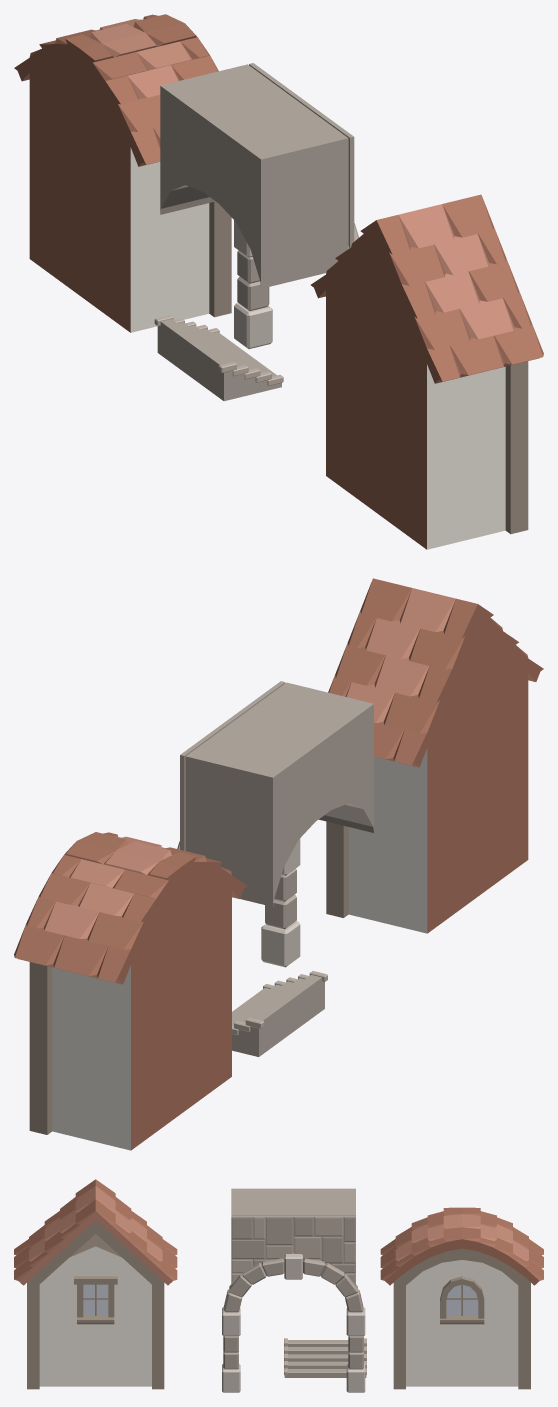
File: stairs.fbx
3 renders of one model, top to bottom at view 1: azimuth 30°, elevation 25°; view 2: azimuth 150°, elevation 25°; view 3: azimuth 270°, elevation 25°, orthographic. The views are drawn at different scales.
Visible parts, largest first — view 1: object5, object4, object1.002, object1.003, object3.001, object6, object2, object5.001; view 2: object5, object4, object1.002, object1.003, object2, object6, object3.001, object4.002; view 3: object5, object4, object6, object3.001, object2, object1.002, object5.001, object4.002, object1.003, object2.001, object3, object1.001.
Part boxes in pixels (x1,y1,x2,y2): object5: [311, 194, 543, 549]; object4: [14, 14, 218, 332]; object1.002: [160, 64, 348, 288]; object1.003: [157, 319, 281, 401]; object3.001: [505, 361, 528, 534]; object6: [234, 220, 358, 348]; object2: [209, 201, 231, 317]; object5.001: [299, 100, 354, 229]; object5: [328, 578, 543, 933]; object4: [14, 832, 247, 1150]; object1.002: [185, 682, 373, 906]; object1.003: [232, 975, 324, 1056]; object2: [29, 962, 52, 1134]; object6: [177, 838, 300, 967]; object3.001: [326, 821, 348, 917]; object4.002: [180, 718, 234, 847]; object5: [14, 1179, 177, 1386]; object4: [380, 1207, 543, 1386]; object6: [222, 1253, 365, 1392]; object3.001: [27, 1220, 164, 1389]; object2: [393, 1248, 530, 1389]; object1.002: [231, 1188, 355, 1215]; object5.001: [231, 1215, 293, 1273]; object4.002: [293, 1215, 355, 1273]; object1.003: [284, 1340, 366, 1377]; object2.001: [74, 1276, 117, 1324]; object3: [440, 1276, 484, 1324]; object1.001: [69, 1234, 121, 1257].
Bounding box in the file's own units: 127 × 325 × 849.
